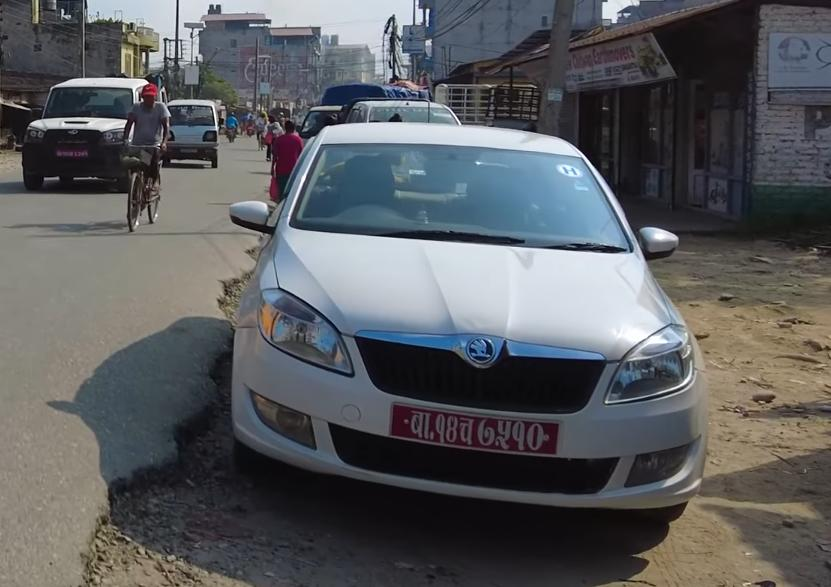SUV: (21, 75, 159, 183)
car: (227, 39, 716, 537)
van: (162, 94, 222, 167)
